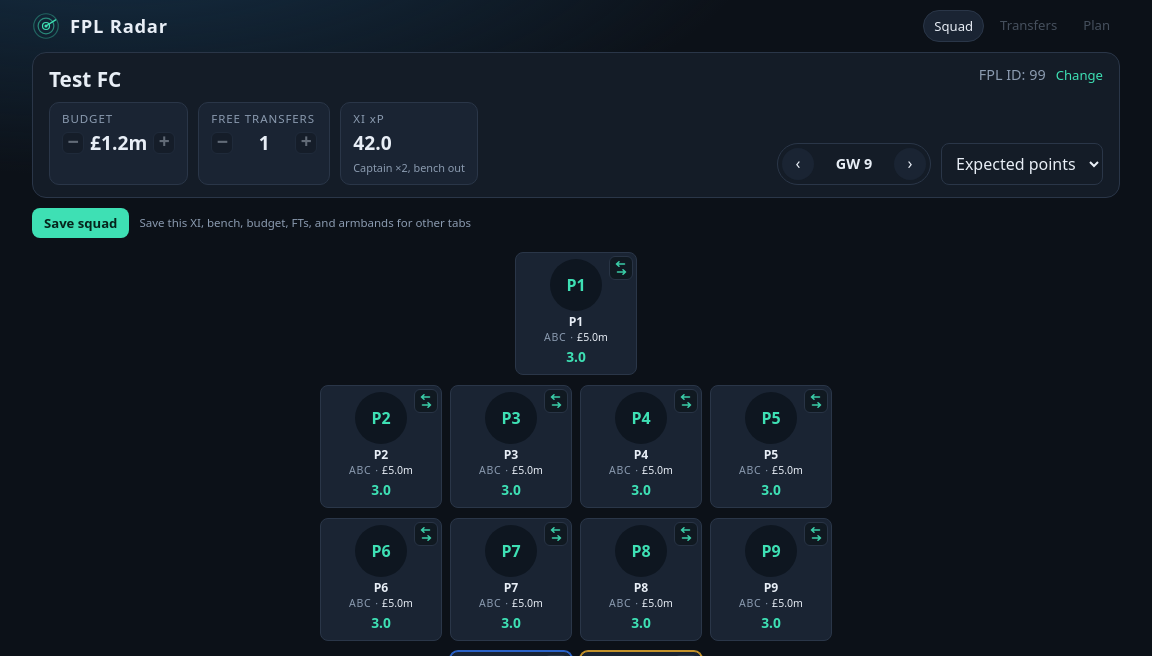
Test: SquadBoard substitutions › cancels when the same highlighted player body is clicked
Click the button named "Substitute P2" at (426, 401), box [414,389,438,413]
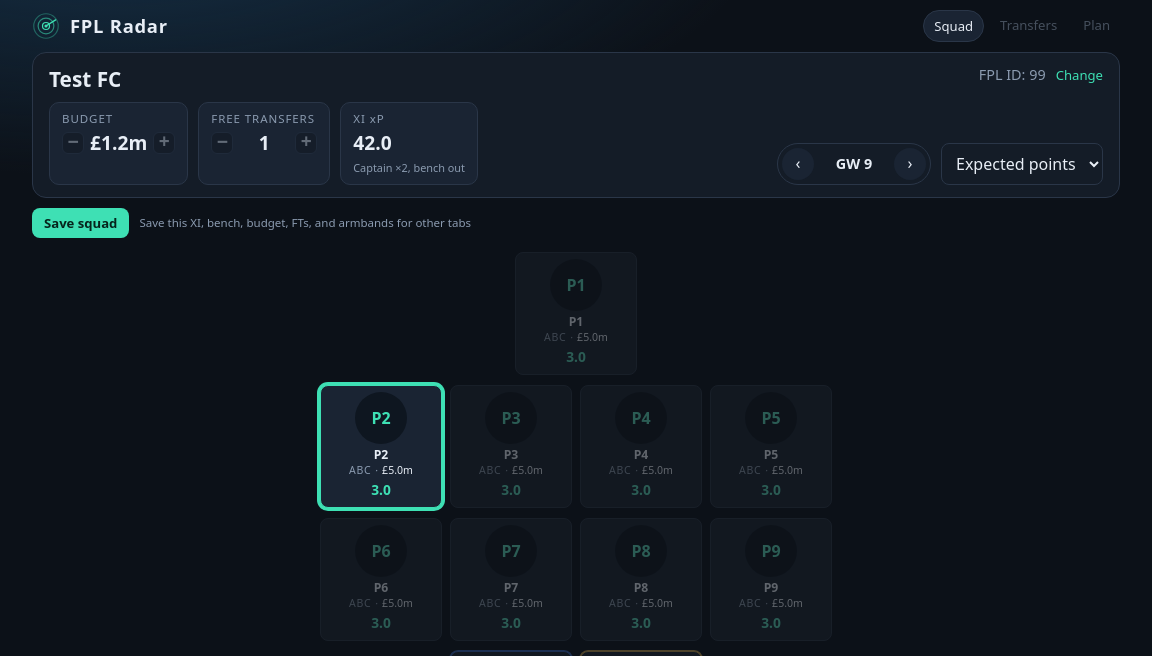
Expected: the text "P2" has class "sub-legal", [320,385,442,508]
Click the button "P2 P2 ABC · £5.0m 3.0" at (381, 446), box [328,392,434,499]
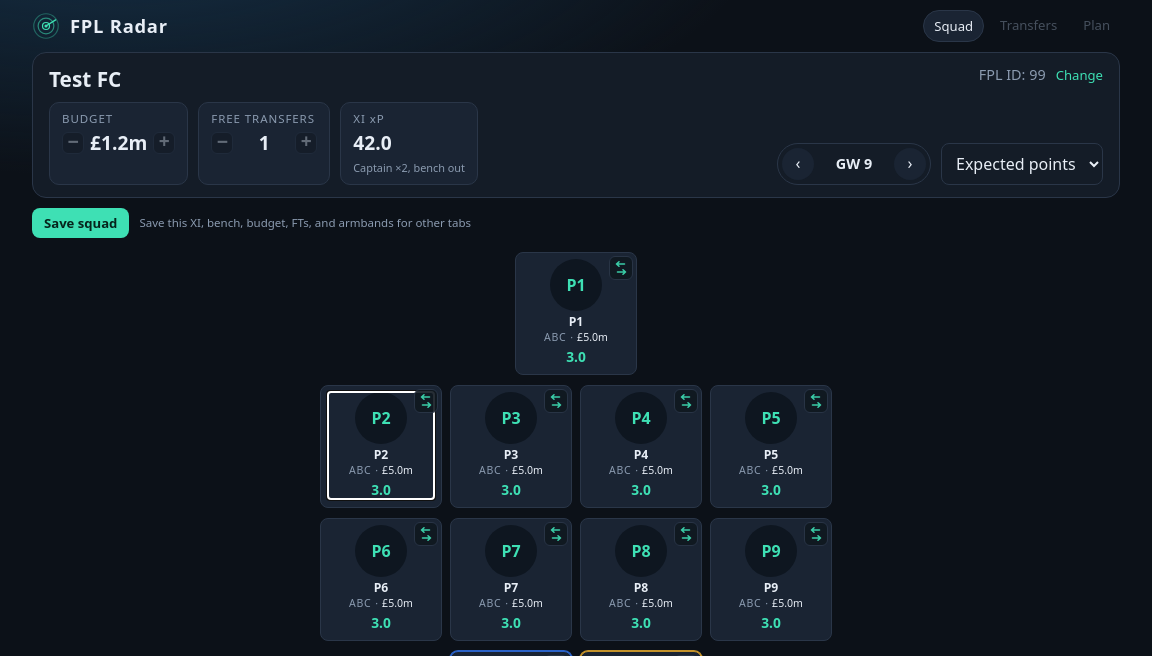
Expected: the number of buttons named "Substitute " is 15
